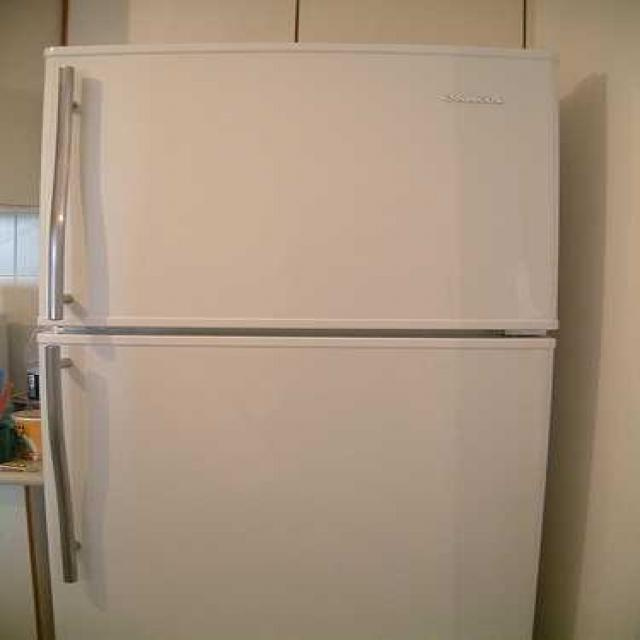refrigerator: (39, 45, 556, 640)
